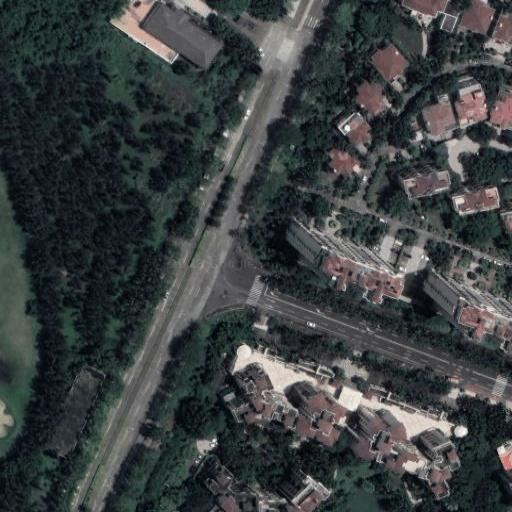building: (344, 404, 449, 485), (220, 363, 334, 437), (183, 451, 315, 512), (46, 363, 107, 460), (141, 2, 225, 72), (109, 0, 179, 63), (284, 216, 368, 268), (423, 268, 503, 318), (369, 43, 409, 84), (420, 93, 457, 137), (454, 85, 488, 125), (445, 180, 494, 207), (338, 111, 372, 149), (458, 0, 495, 34), (394, 162, 441, 188), (325, 145, 357, 179), (354, 80, 384, 114), (490, 91, 512, 131), (491, 6, 512, 45), (402, 0, 445, 18), (496, 441, 512, 470), (495, 201, 512, 224), (498, 469, 512, 489), (441, 14, 456, 32), (358, 144, 369, 156)
